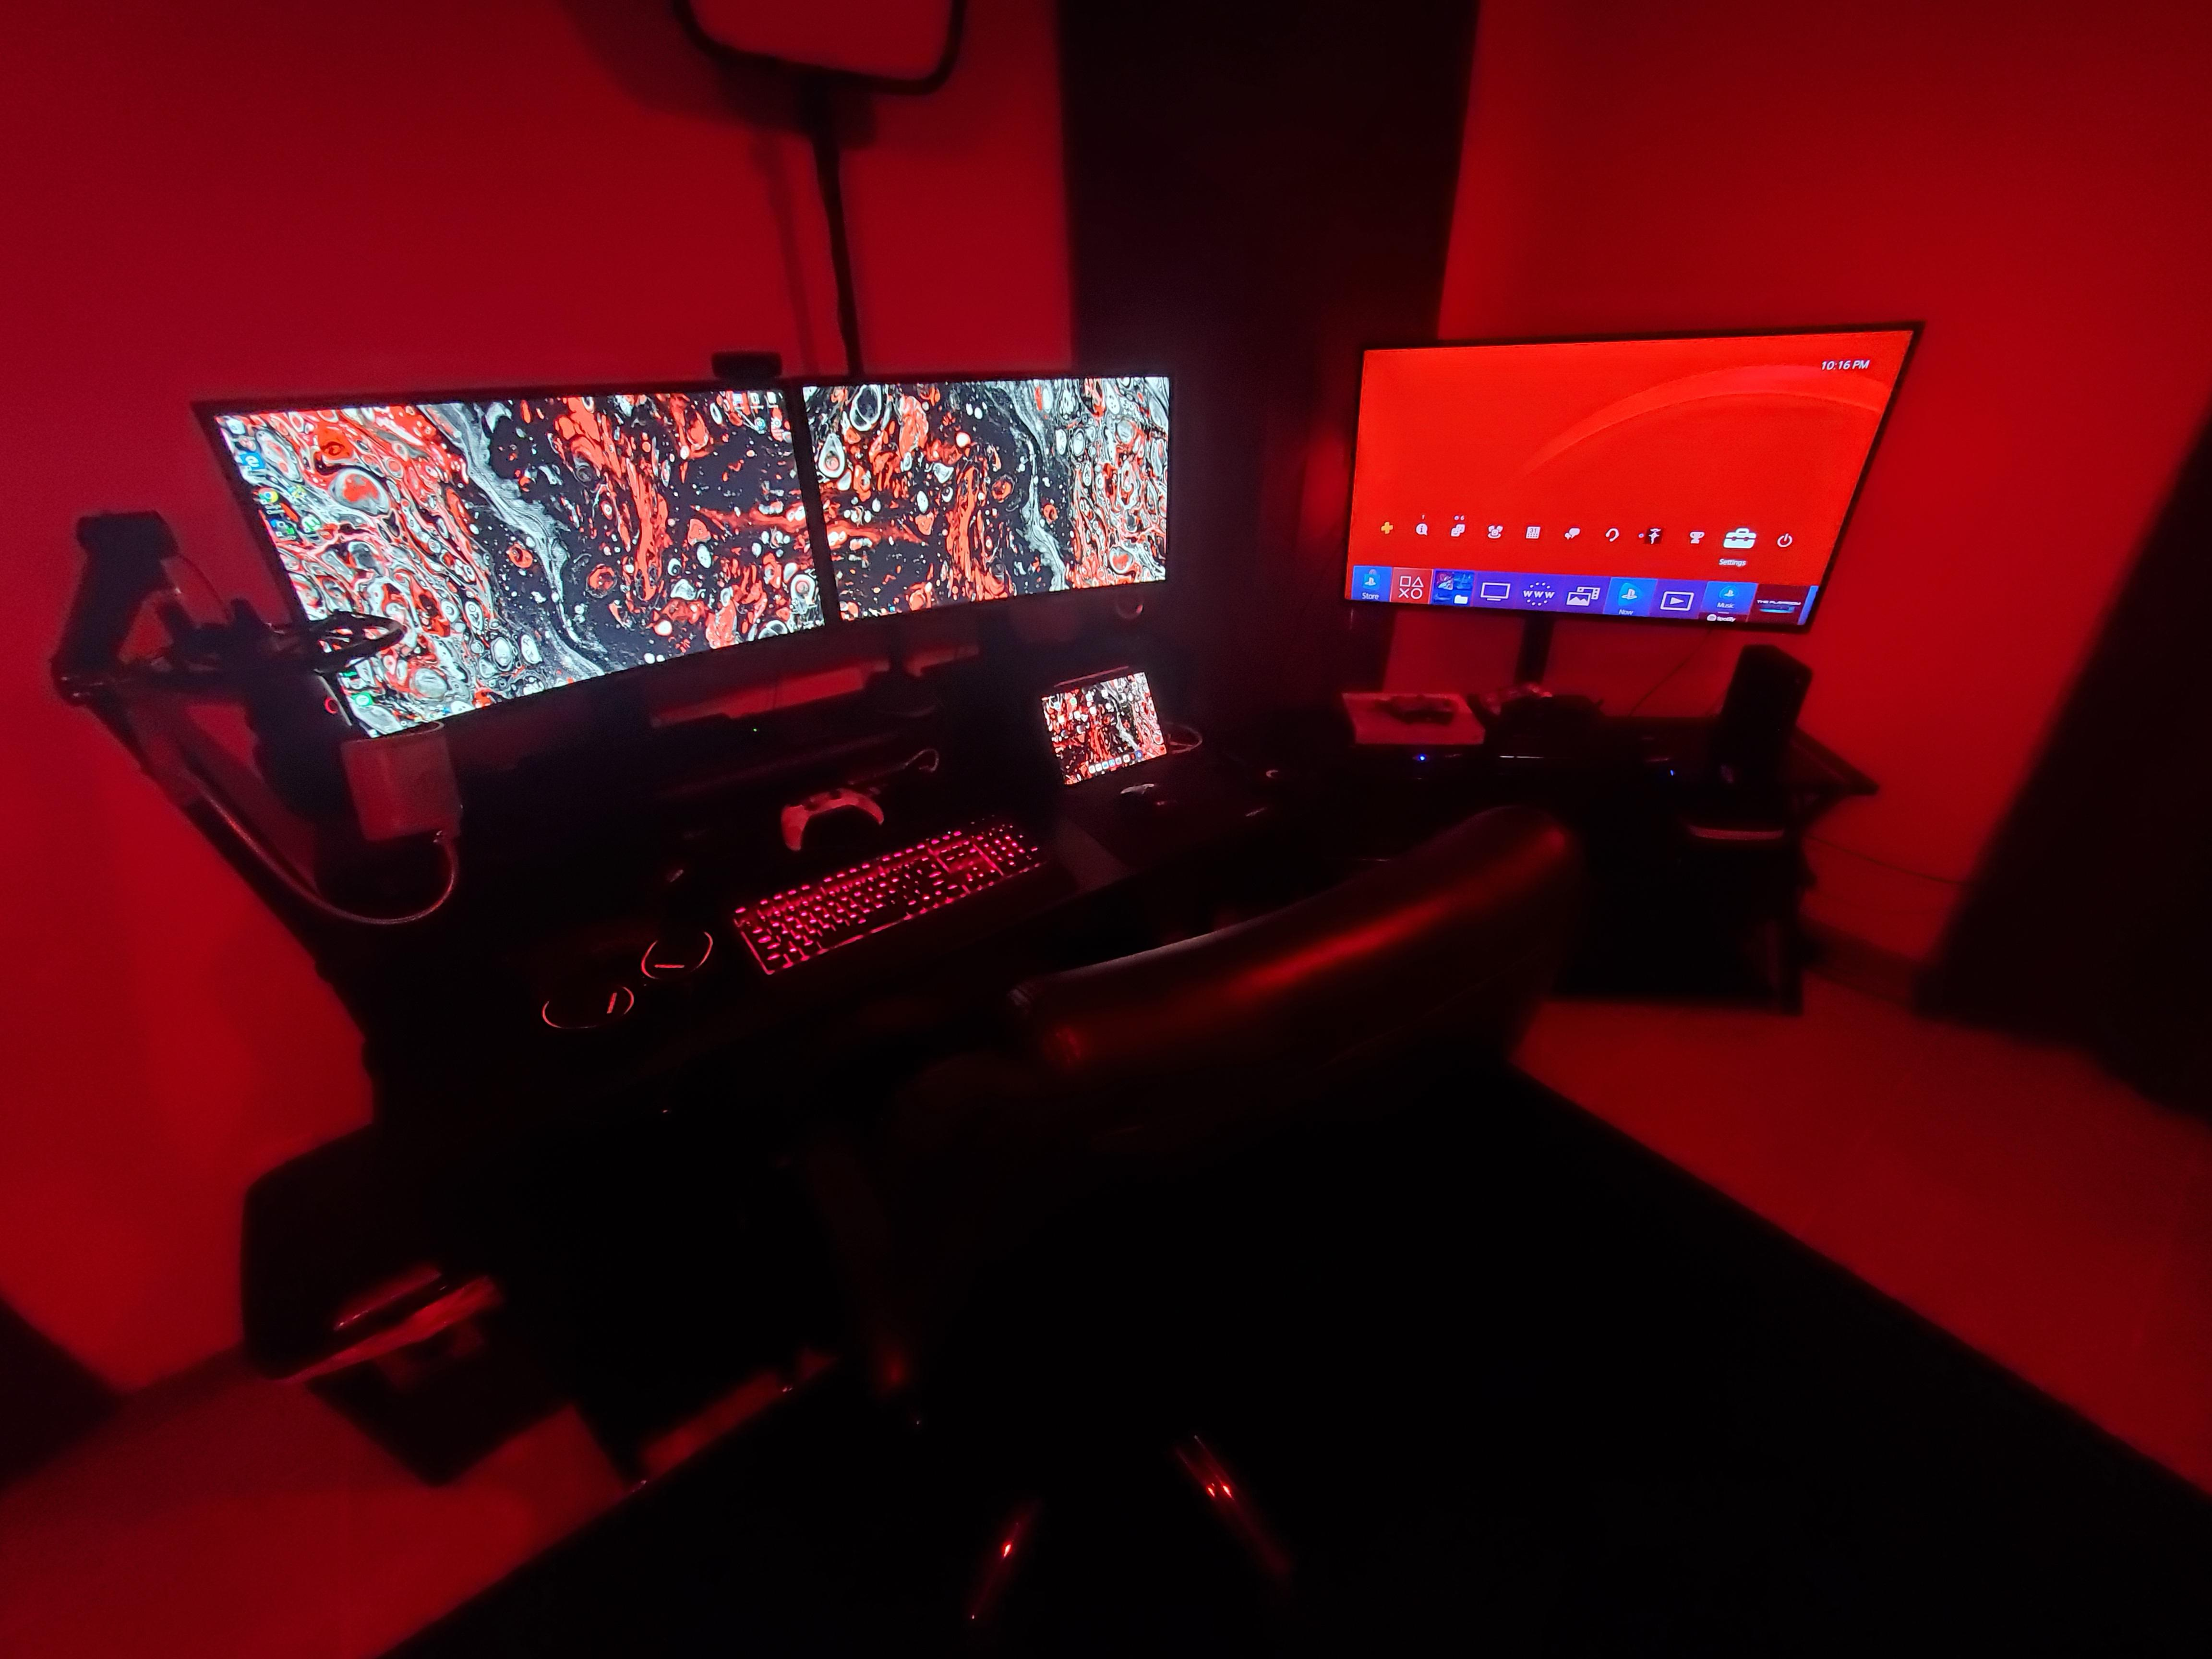Chair (Generic): (737, 803, 1578, 1659)
Desk (Generic): (394, 667, 1313, 1459)
External Microphone (with Boom Arm): (42, 497, 475, 941)
External Speakers (Generic): (1090, 572, 1160, 629)
External Webcam: (704, 345, 789, 385)
Gaming Console: (1712, 643, 1817, 762), (1468, 690, 1623, 765), (1338, 687, 1487, 748)
Gaming Controller: (773, 786, 888, 850), (1379, 690, 1463, 728), (1477, 680, 1552, 720)
Headphones: (533, 826, 716, 1040)
Keyboard (Gaming): (721, 814, 1059, 1002)
Monitor (Landscape): (185, 385, 834, 737), (1331, 322, 1921, 633), (796, 368, 1179, 629)
Monitor Arm: (587, 674, 655, 749), (975, 605, 1033, 669)
Mouse (Generic): (1115, 784, 1197, 826)
Mousepad (Gaming): (1042, 723, 1303, 870)
Tablet (iPad): (1033, 664, 1174, 793)
Trash Can: (228, 1129, 554, 1511)
